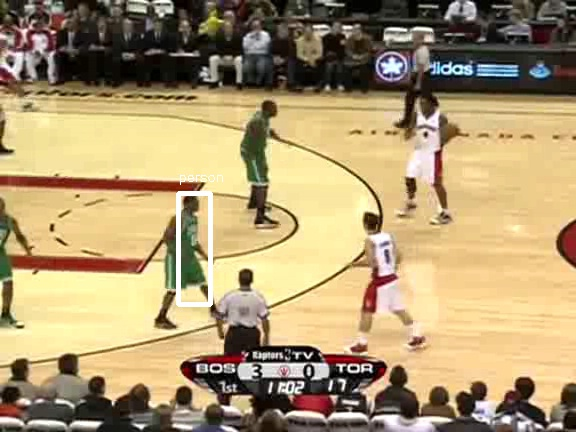person: (169, 215, 203, 296), (168, 215, 202, 296), (170, 215, 204, 296), (169, 214, 203, 295), (169, 216, 203, 297)
target_negative: (255, 30, 441, 394), (343, 79, 567, 361), (6, 83, 209, 281), (523, 5, 567, 151), (296, 311, 403, 319), (548, 417, 560, 428)
